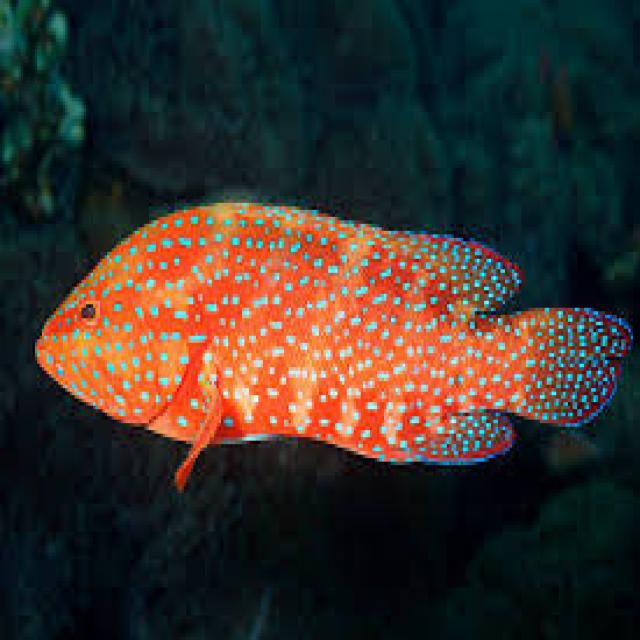Plectropomus-leopardus: (35, 161, 613, 528)
